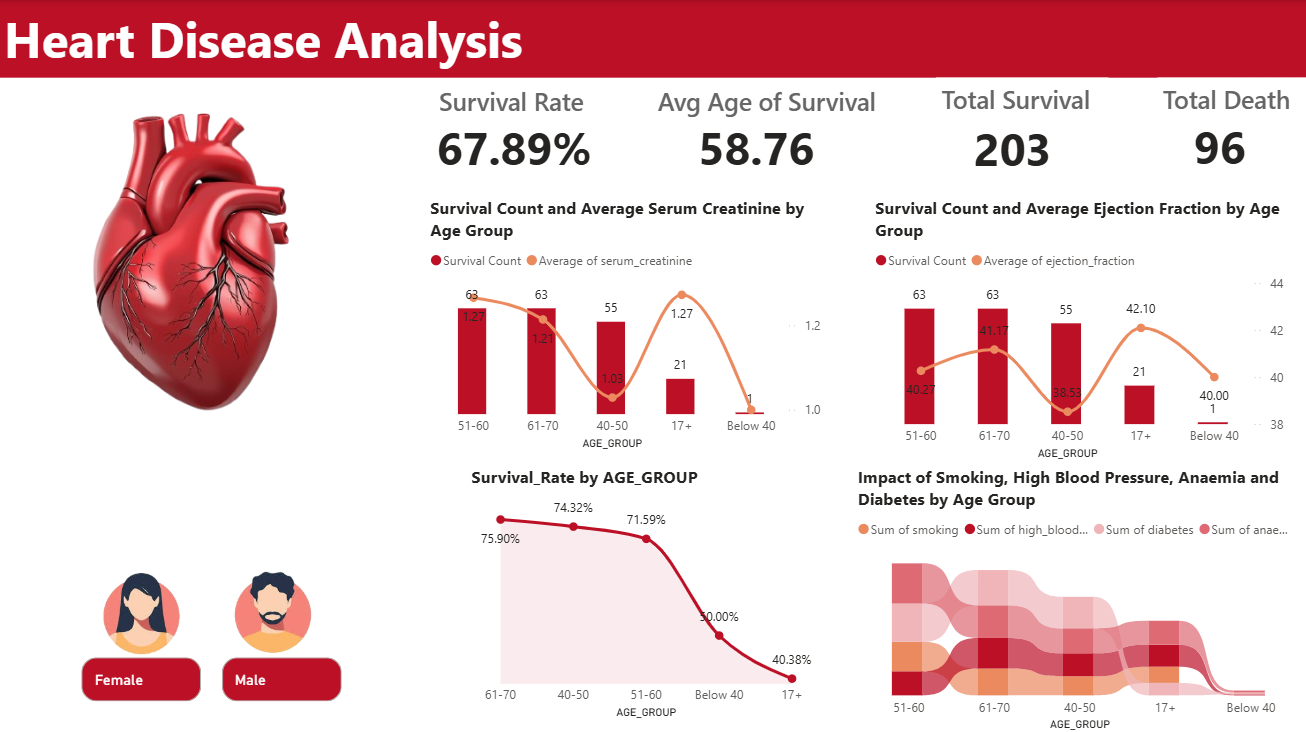

Layout of this report page (visuals, bound fields, positions):
{"tool":"powerbi","page":{"name":"Page 1","canvas":[1280,720],"ordinal":0},"visuals":[{"type":"textbox","box":[9.6,0,691.6,76.8],"z":0},{"type":"card","fields":{"Values":["heart_Disease_clinical_records_.Survival_Rate"]},"box":[419.4,90.5,173.6,139.4],"z":1000},{"type":"card","fields":{"Values":["heart_Disease_clinical_records_.Average_Age_Survival"]},"box":[662.8,107.6,137,103.9],"z":2000},{"type":"card","fields":{"Values":["heart_Disease_clinical_records_.Total_Surviour"]},"box":[956.3,127.2,90.5,64.8],"z":3000},{"type":"card","fields":{"Values":["heart_Disease_clinical_records_.Total_Death"]},"box":[1107.9,111.3,172.4,97.8],"z":4000},{"type":"textbox","box":[419.9,90.6,172.9,49.4],"z":5000},{"type":"textbox","box":[634,90.6,231.9,53.5],"z":6000},{"type":"textbox","box":[918,87.8,167.4,48],"z":7000},{"type":"textbox","box":[1133.5,90.6,146.8,45.3],"z":8000},{"type":"lineClusteredColumnComboChart","title":"Survival Count and Average Serum Creatinine by Age Group","fields":{"Category":["heart_Disease_clinical_records_.AGE_GROUP"],"Y":["CountNonNull(heart_Disease_clinical_records_.DEATH_EVENT)"],"Y2":["Avg(heart_Disease_clinical_records_.serum_creatinine)"]},"box":[417,192,392.5,253.1],"z":9000},{"type":"lineClusteredColumnComboChart","title":"Survival Count and Average Ejection Fraction by Age Group","fields":{"Category":["heart_Disease_clinical_records_.AGE_GROUP"],"Y":["CountNonNull(heart_Disease_clinical_records_.DEATH_EVENT)"],"Y2":["Avg(heart_Disease_clinical_records_.ejection_fraction)"]},"box":[852.3,192,409.6,262.9],"z":10000},{"type":"lineChart","fields":{"Category":["heart_Disease_clinical_records_.AGE_GROUP"],"Y":["heart_Disease_clinical_records_.Survival_Rate"]},"box":[457.3,454.9,352.2,253.1],"z":11000},{"type":"ribbonChart","title":"Impact of Smoking, High Blood Pressure, Anaemia and Diabetes by Age Group","fields":{"Category":["heart_Disease_clinical_records_.AGE_GROUP"],"Y":["Sum(heart_Disease_clinical_records_.smoking)","Sum(heart_Disease_clinical_records_.high_blood_pressure)","Sum(heart_Disease_clinical_records_.diabetes)","Sum(heart_Disease_clinical_records_.anaemia)"]},"box":[835.2,454.9,445.1,265.4],"z":12000},{"type":"advancedSlicerVisual","fields":{"Values":["heart_Disease_clinical_records_.Gender"]},"box":[79.5,596.7,261.7,53.8],"z":12001},{"type":"image","box":[0,90.5,368.1,332.6],"z":12002}]}

Visuals, with their boxes in screenshot pixels (x1, y1, x2, y2), scaled from the page's 1280x720 canvas onto the 1306x732 screenshot:
textbox: locate(10, 0, 715, 78)
card - heart_Disease_clinical_records_.Survival_Rate: locate(428, 92, 605, 234)
card - heart_Disease_clinical_records_.Average_Age_Survival: locate(676, 109, 816, 215)
card - heart_Disease_clinical_records_.Total_Surviour: locate(976, 129, 1068, 195)
card - heart_Disease_clinical_records_.Total_Death: locate(1130, 113, 1305, 213)
textbox: locate(428, 92, 605, 142)
textbox: locate(647, 92, 883, 147)
textbox: locate(937, 89, 1107, 138)
textbox: locate(1157, 92, 1305, 138)
"Survival Count and Average Serum Creatinine by Age Group" lineClusteredColumnComboChart: locate(425, 195, 826, 453)
"Survival Count and Average Ejection Fraction by Age Group" lineClusteredColumnComboChart: locate(870, 195, 1288, 462)
lineChart - heart_Disease_clinical_records_.AGE_GROUP x heart_Disease_clinical_records_.Survival_Rate: locate(467, 462, 826, 720)
"Impact of Smoking, High Blood Pressure, Anaemia and Diabetes by Age Group" ribbonChart: locate(852, 462, 1305, 731)
advancedSlicerVisual - heart_Disease_clinical_records_.Gender: locate(81, 607, 348, 661)
image: locate(0, 92, 376, 430)
